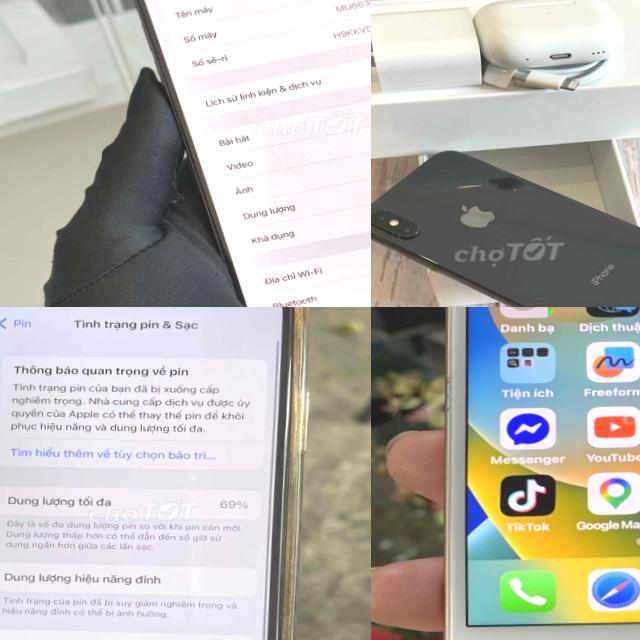scratch: (402, 228, 431, 239)
